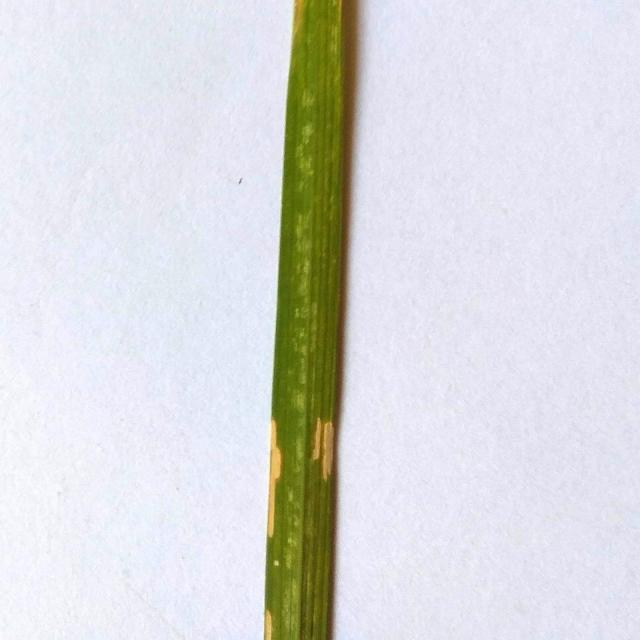Leaf_Blast: (311, 406, 343, 483)
